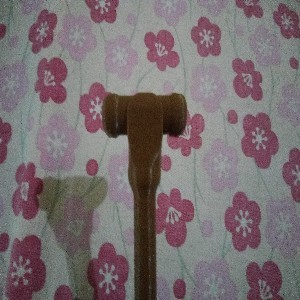palu: (101, 91, 189, 300)
